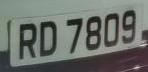0: (103, 11, 121, 49)
7: (64, 13, 86, 58)
8: (84, 11, 104, 54)
9: (120, 8, 139, 45)
D: (38, 18, 59, 59)
R: (14, 19, 40, 62)
